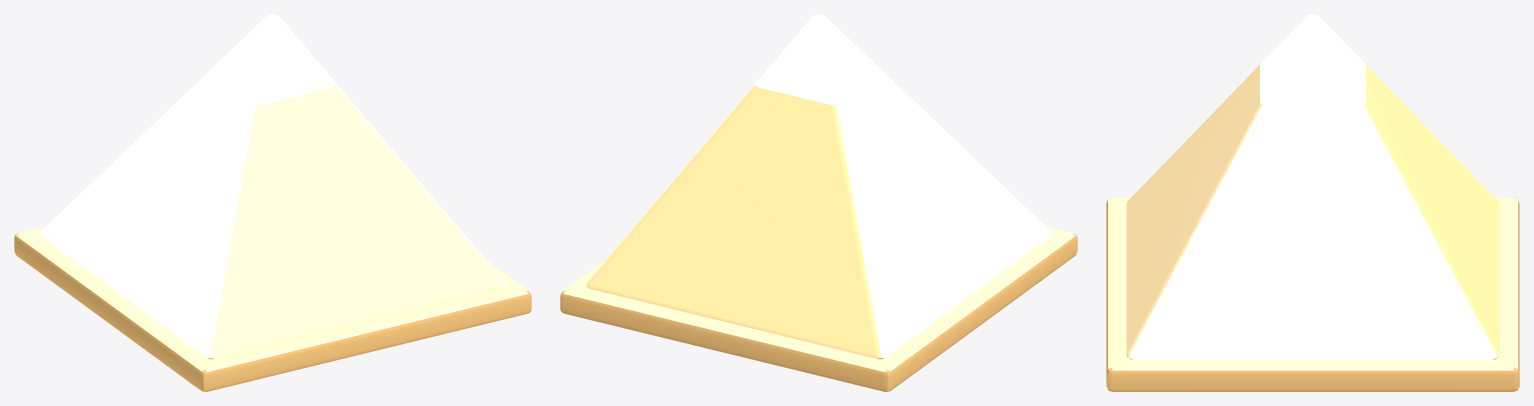
File: pyramid_cap_5.glb
3 views of the same model, side by side, from view 1: azimuth 30°, elevation 25°; view 2: azimuth 150°, elevation 25°; view 3: azimuth 270°, elevation 25° (orthographic). The views are drawn at different scales.
Visible parts, largest first — view 1: cap, cap_plinth; view 2: cap, cap_plinth; view 3: cap, cap_plinth.
Boxes of the visible parts, left/top/right/bottom form: cap: left=40, top=14, right=505, bottom=359; cap_plinth: left=14, top=227, right=531, bottom=391; cap: left=586, top=14, right=1051, bottom=359; cap_plinth: left=560, top=227, right=1077, bottom=391; cap: left=1126, top=14, right=1499, bottom=359; cap_plinth: left=1106, top=197, right=1519, bottom=391.
Bounding box in the file's own units: 12.2 × 9.54 × 12.2.
